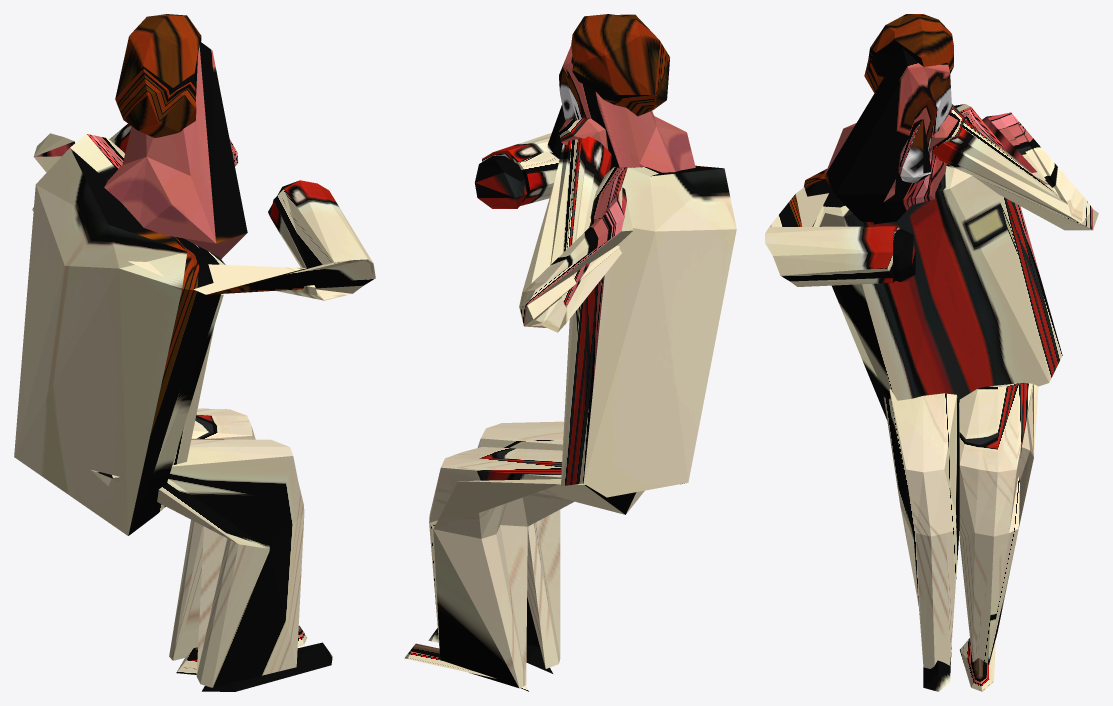
The model's file is NannCard.glb.
The picture shows the model from 3 angles, left to right: view 1: azimuth 30°, elevation 25°; view 2: azimuth 150°, elevation 25°; view 3: azimuth 270°, elevation 25°; orthographic projection. The views are drawn at different scales.
Parts seen in each view (by area): view 1: NannCard; view 2: NannCard; view 3: NannCard.
Part boxes in pixels (bbox=[...]): NannCard: bbox=[14, 14, 375, 691]; NannCard: bbox=[404, 14, 736, 691]; NannCard: bbox=[765, 14, 1098, 691].
Bounding box in the file's own units: 110 × 248 × 125.
Materials: 1 (1 with a texture image).
